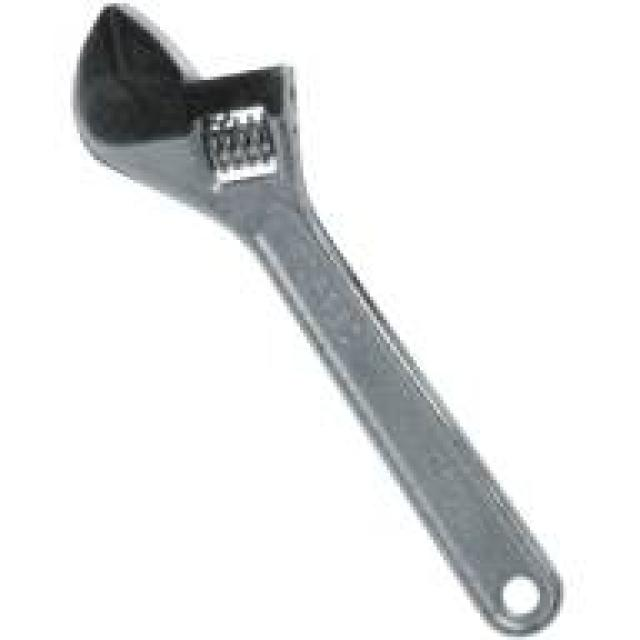wrench: (56, 0, 606, 633)
